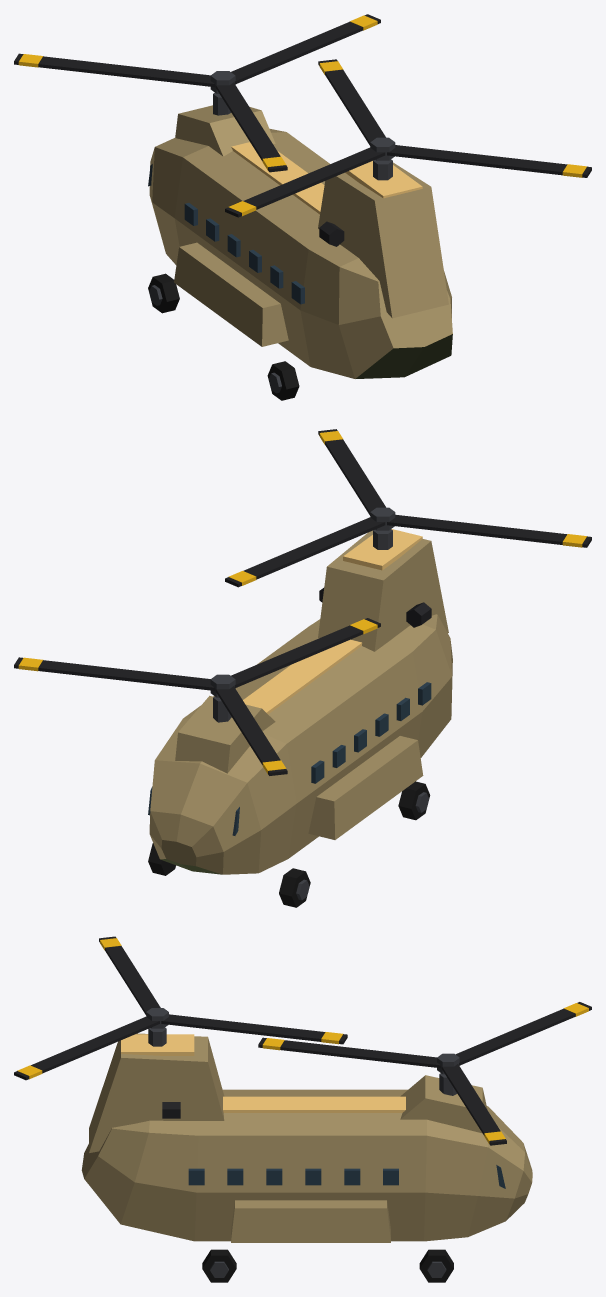
Rendered from helicopter_transport.glb.
The picture shows the model from 3 angles, top to bottom: view 1: azimuth 30°, elevation 25°; view 2: azimuth 150°, elevation 25°; view 3: azimuth 270°, elevation 25°; orthographic projection. The views are drawn at different scales.
Parts seen in each view (by area): view 1: helicopter_transport, Rotor2, Rotor; view 2: helicopter_transport, Rotor, Rotor2; view 3: helicopter_transport, Rotor2, Rotor.
Boxes of the visible parts, x1=… form: helicopter_transport: x1=148, y1=92, x2=452, y2=400; Rotor2: x1=225, y1=59, x2=591, y2=217; Rotor: x1=14, y1=14, x2=380, y2=172; helicopter_transport: x1=148, y1=529, x2=452, y2=907; Rotor: x1=14, y1=618, x2=380, y2=775; Rotor2: x1=225, y1=429, x2=591, y2=587; helicopter_transport: x1=81, y1=1027, x2=532, y2=1282; Rotor2: x1=14, y1=936, x2=347, y2=1080; Rotor: x1=258, y1=1002, x2=591, y2=1145.
Size of the model in its own units: 1.66 by 1.15 by 2.53.
